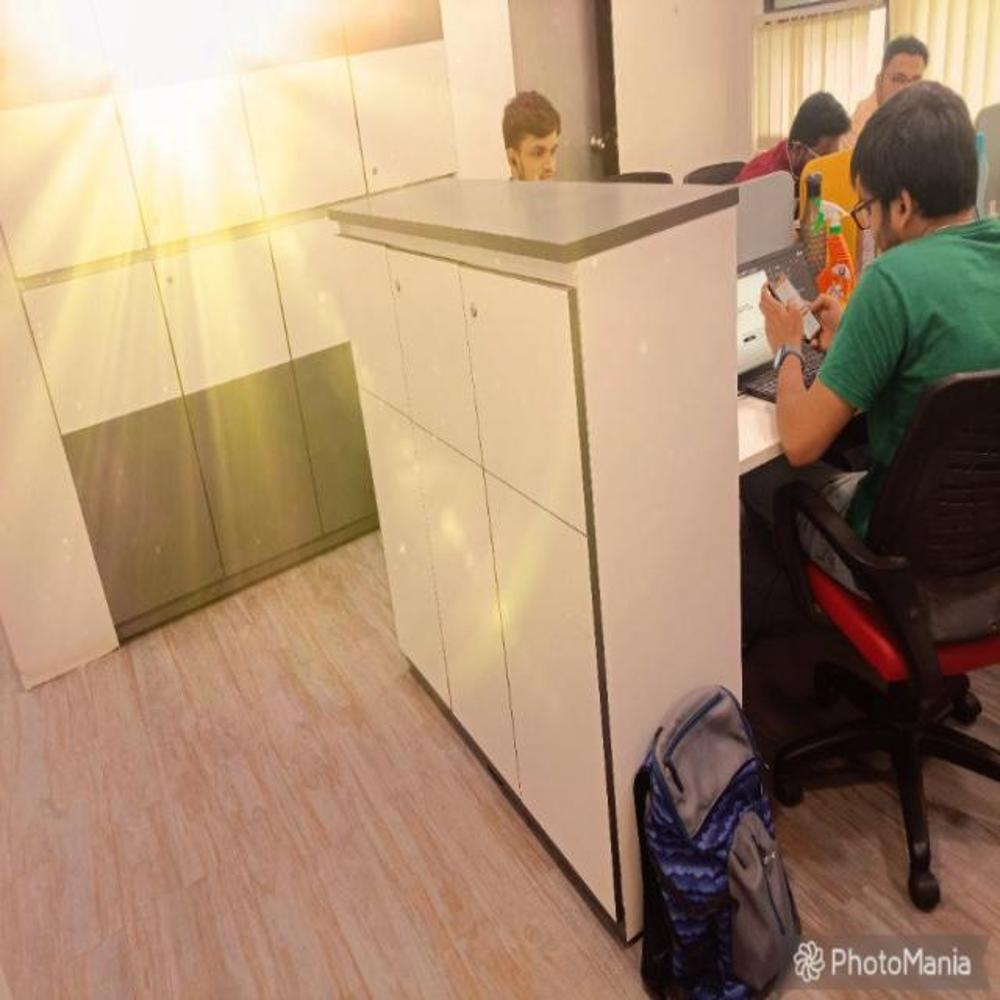cabinet: (331, 178, 742, 939)
